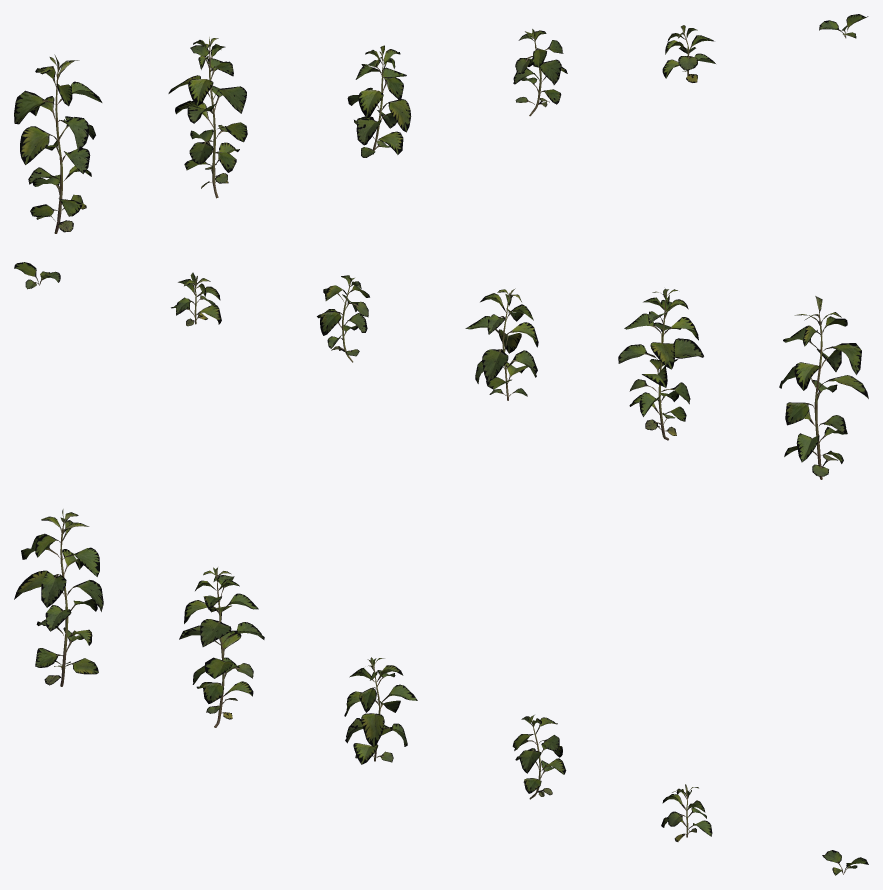
Rendered from nettle_plant.glb.
The picture shows the model from 3 angles, top to bottom: view 1: azimuth 30°, elevation 25°; view 2: azimuth 150°, elevation 25°; view 3: azimuth 330°, elevation 25°; orthographic projection.
Parts seen in each view (by area): view 1: nettle_plant_tall_a_LOD0, nettle_plant_tall_b_LOD0, nettle_plant_medium_a_LOD0, nettle_plant_medium_b_LOD0, nettle_plant_small_a_LOD0; view 2: nettle_plant_tall_a_LOD0, nettle_plant_tall_b_LOD0, nettle_plant_medium_a_LOD0, nettle_plant_medium_b_LOD0, nettle_plant_small_a_LOD0, nettle_plant_small_b_LOD0; view 3: nettle_plant_tall_a_LOD0, nettle_plant_tall_b_LOD0, nettle_plant_medium_a_LOD0, nettle_plant_medium_b_LOD0, nettle_plant_small_a_LOD0.
Boxes of the visible parts, <box> form: nettle_plant_tall_a_LOD0: <box>14,54,102,233</box>; nettle_plant_tall_b_LOD0: <box>168,37,247,198</box>; nettle_plant_medium_a_LOD0: <box>347,45,411,157</box>; nettle_plant_medium_b_LOD0: <box>513,29,567,116</box>; nettle_plant_small_a_LOD0: <box>662,25,715,82</box>; nettle_plant_tall_a_LOD0: <box>779,296,868,479</box>; nettle_plant_tall_b_LOD0: <box>618,288,703,440</box>; nettle_plant_medium_a_LOD0: <box>465,288,538,400</box>; nettle_plant_medium_b_LOD0: <box>317,275,369,362</box>; nettle_plant_small_a_LOD0: <box>171,272,221,326</box>; nettle_plant_small_b_LOD0: <box>14,262,60,289</box>; nettle_plant_tall_a_LOD0: <box>14,509,103,686</box>; nettle_plant_tall_b_LOD0: <box>179,567,264,727</box>; nettle_plant_medium_a_LOD0: <box>344,657,417,764</box>; nettle_plant_medium_b_LOD0: <box>512,715,566,799</box>; nettle_plant_small_a_LOD0: <box>661,784,712,841</box>.
Bounding box in the file's own units: 1.08 × 0.2183 × 0.0947.
Materials: 1 (1 with a texture image).
